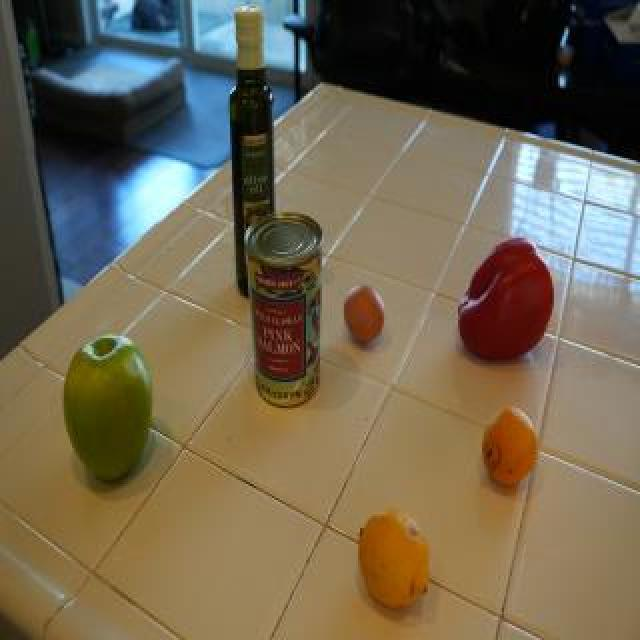Wet: (442, 236, 577, 361), (340, 282, 390, 351)
